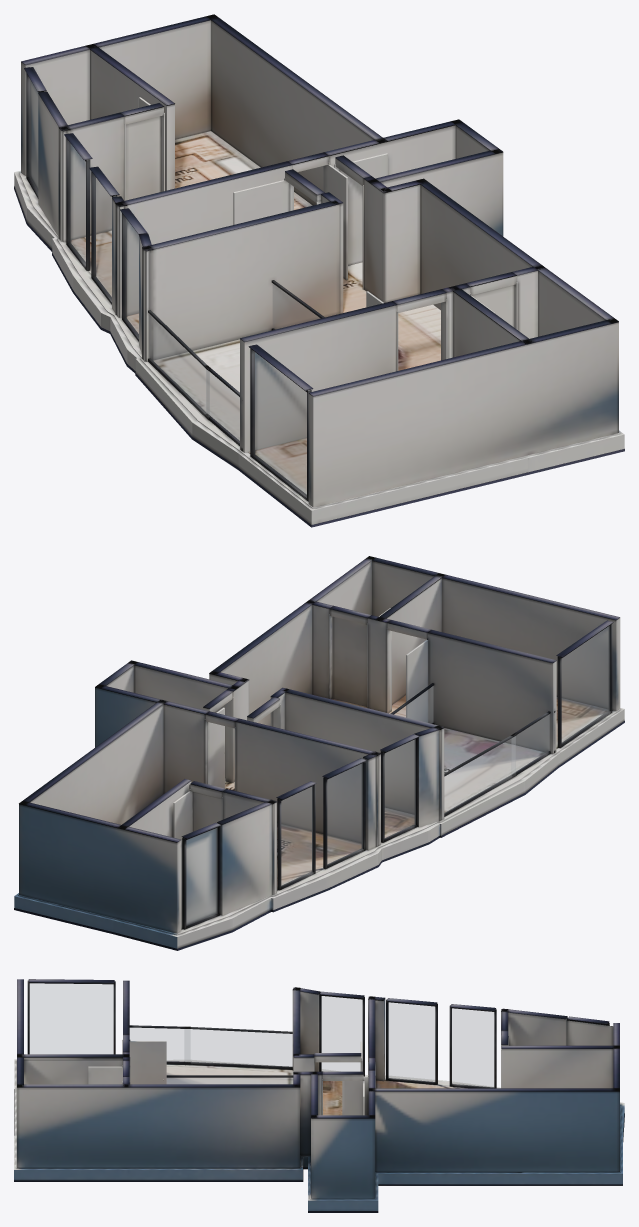
The picture shows the model from 3 angles, top to bottom: view 1: azimuth 30°, elevation 25°; view 2: azimuth 150°, elevation 25°; view 3: azimuth 270°, elevation 25°; orthographic projection. The views are drawn at different scales.
Visible parts, largest first — view 1: plan, glass4_m, railg4_m, glass2_m, glass1_m, railg3_m, glass3_m, railg2_m, glass0_m; view 2: plan, glass4_m, glass2_m, glass0_m, glass1_m, railg4_m, glass3_m, railg3_m, railg2_m; view 3: plan, glass4_m, railg4_m, glass2_m, glass1_m, glass3_m, railg3_m, railg2_m.
Part boxes in pixels (x1,y1,x2,y2): plan: [14, 14, 624, 527]; glass4_m: [253, 351, 306, 495]; railg4_m: [149, 314, 209, 416]; glass2_m: [94, 176, 111, 299]; glass1_m: [69, 142, 85, 264]; railg3_m: [206, 369, 239, 441]; glass3_m: [125, 218, 138, 336]; railg2_m: [273, 284, 319, 329]; glass0_m: [29, 78, 37, 191]; plan: [14, 556, 624, 950]; glass4_m: [562, 626, 609, 743]; glass2_m: [327, 763, 362, 864]; glass0_m: [186, 828, 217, 925]; glass1_m: [281, 786, 312, 885]; railg4_m: [444, 736, 515, 812]; glass3_m: [385, 739, 415, 838]; railg3_m: [511, 714, 549, 774]; railg2_m: [394, 686, 433, 723]; plan: [14, 979, 624, 1212]; glass4_m: [30, 983, 113, 1053]; railg4_m: [184, 1029, 292, 1066]; glass2_m: [388, 1002, 434, 1082]; glass1_m: [452, 1008, 493, 1087]; glass3_m: [321, 996, 362, 1071]; railg3_m: [130, 1028, 190, 1061]; railg2_m: [167, 1078, 292, 1083].
Size of the model in its own units: 8.52 by 2.62 by 15.53.
Materials: 2 (1 with a texture image).
